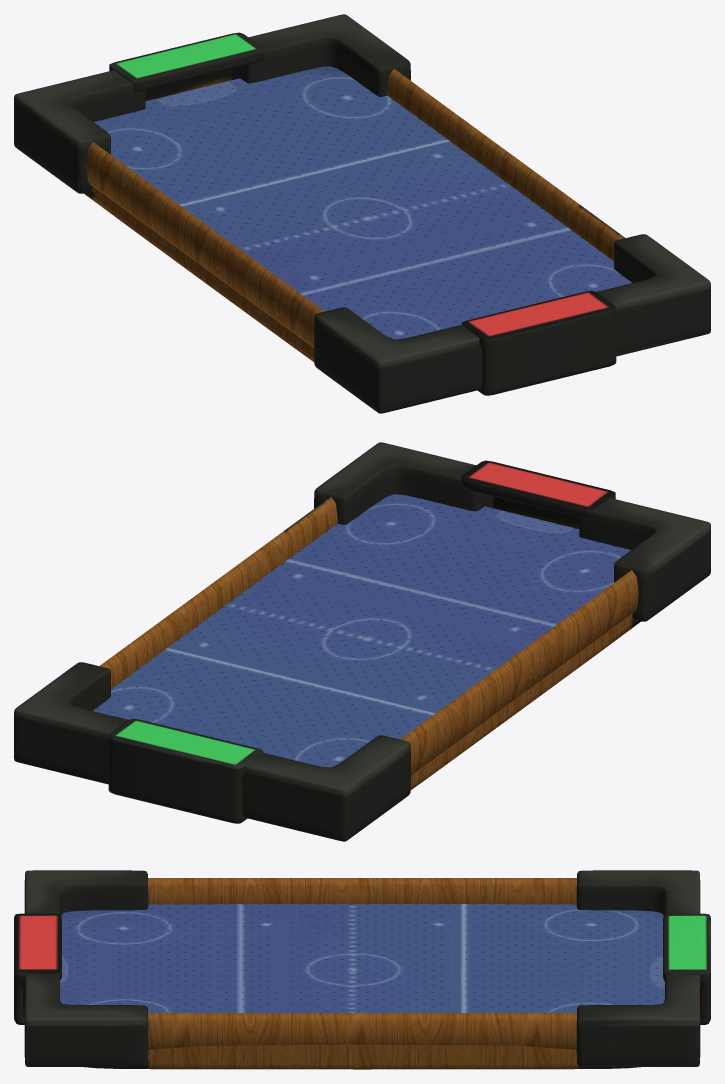
The model's file is Mesa_Airhockey.fbx.
3 renders of one model, top to bottom at view 1: azimuth 30°, elevation 25°; view 2: azimuth 150°, elevation 25°; view 3: azimuth 270°, elevation 25°, orthographic. The views are drawn at different scales.
Visible parts, largest first — view 1: Table, Field; view 2: Table, Field; view 3: Field, Table.
Boxes of the visible parts, x1,y1,x2,y2 form: Table: (94,66,631,339); Field: (14,14,710,413); Table: (93,494,630,767); Field: (14,442,710,841); Field: (14,870,710,1069); Table: (60,904,664,1012).
Bounding box in the file's own units: 217 × 39.63 × 426.
